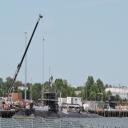submarine: (14, 91, 105, 119)
